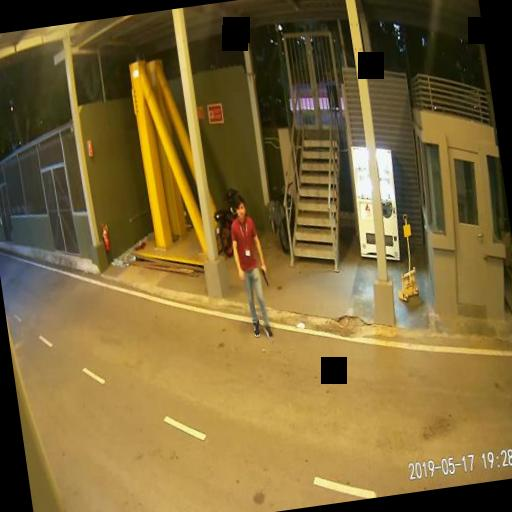Handgun: (260, 264, 268, 286)
